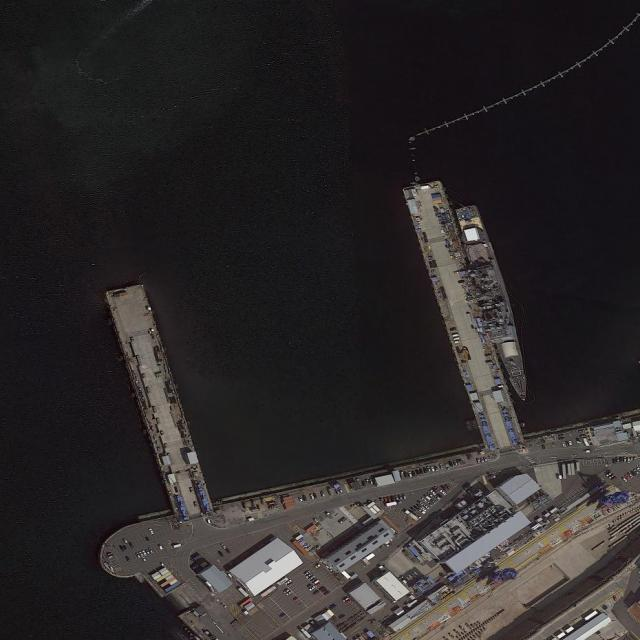Cruiser: (456, 202, 535, 404)
Dock: (403, 175, 524, 452), (105, 284, 213, 520)
